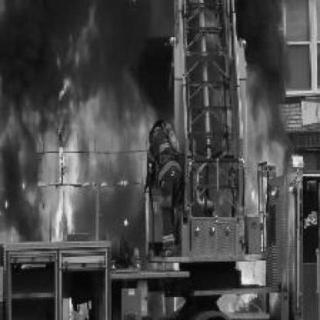Fire: (4, 2, 320, 313)
